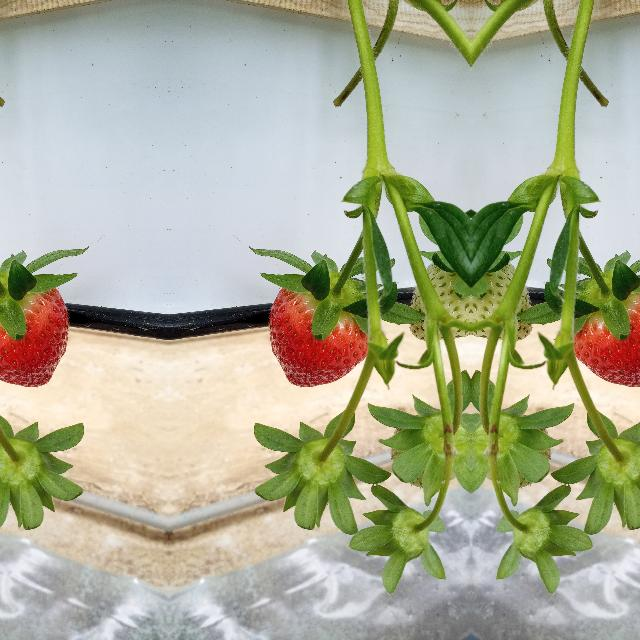Health_100: (267, 287, 367, 387), (0, 287, 69, 387), (574, 287, 640, 387)
Health_25: (400, 235, 470, 348), (471, 235, 541, 348)
